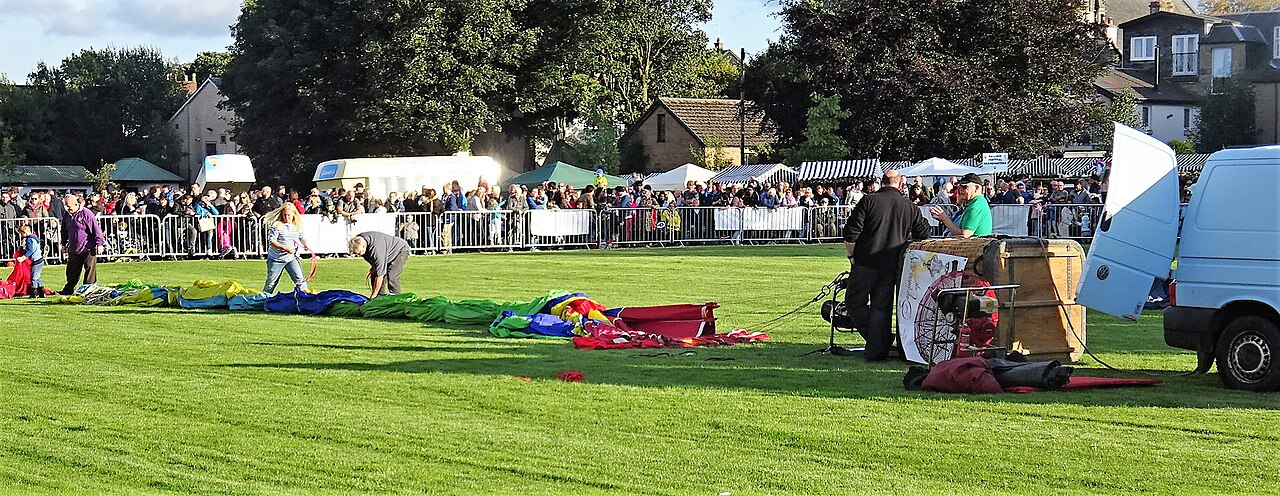balloon: (0, 241, 1094, 387)
